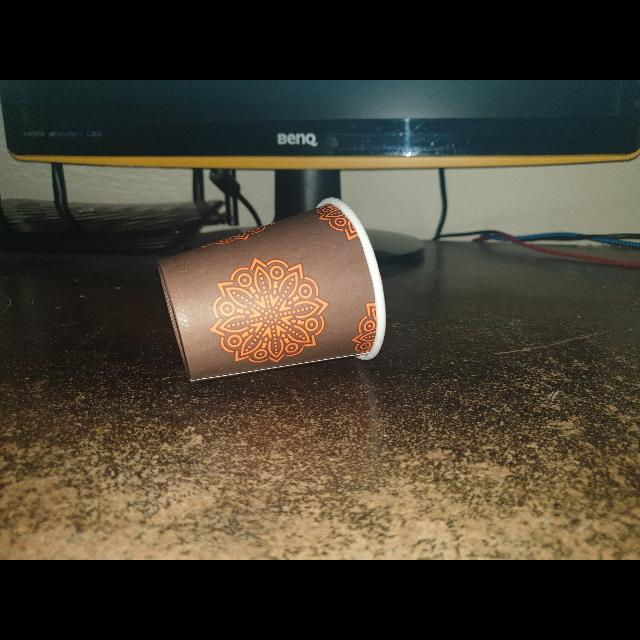trash: (146, 194, 390, 392)
